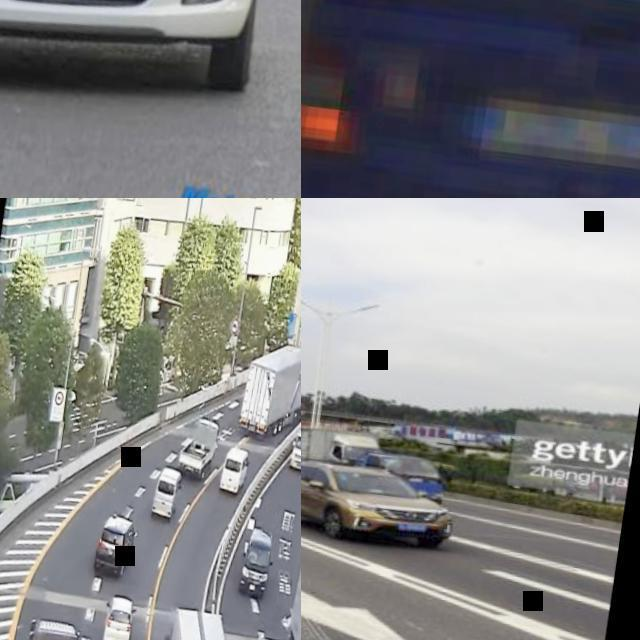car: (1, 0, 260, 91), (290, 448, 454, 541), (234, 528, 272, 594), (218, 439, 252, 501), (145, 471, 184, 519)
